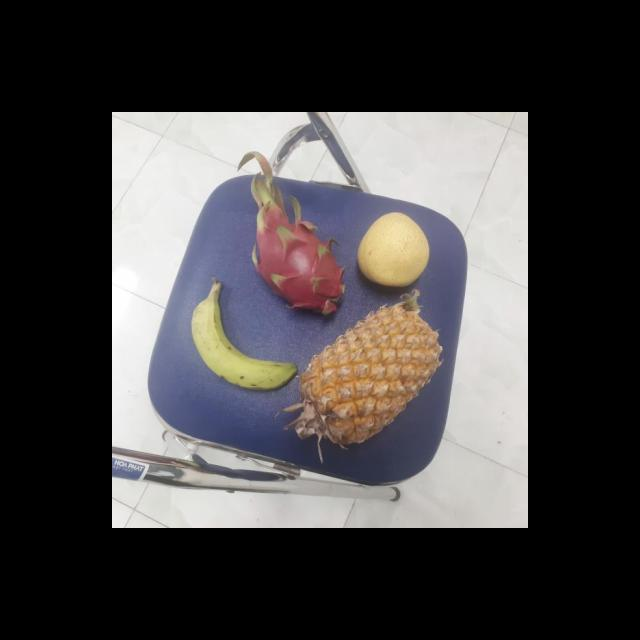banana: (188, 282, 295, 392)
pear: (354, 212, 431, 286)
pineapple: (292, 298, 436, 442)
pitaya: (247, 214, 346, 318)
